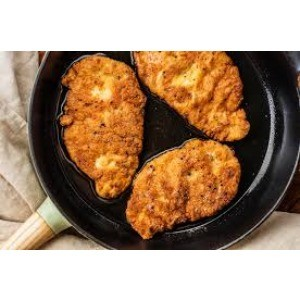chicken breast_brain food: (51, 67, 126, 165), (138, 159, 210, 223), (170, 66, 232, 116)
